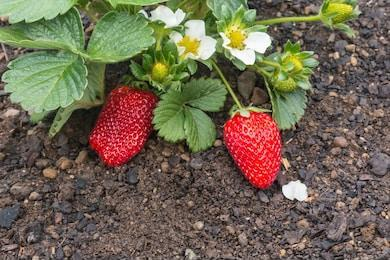Fresa: (82, 81, 164, 172), (218, 103, 284, 193)
